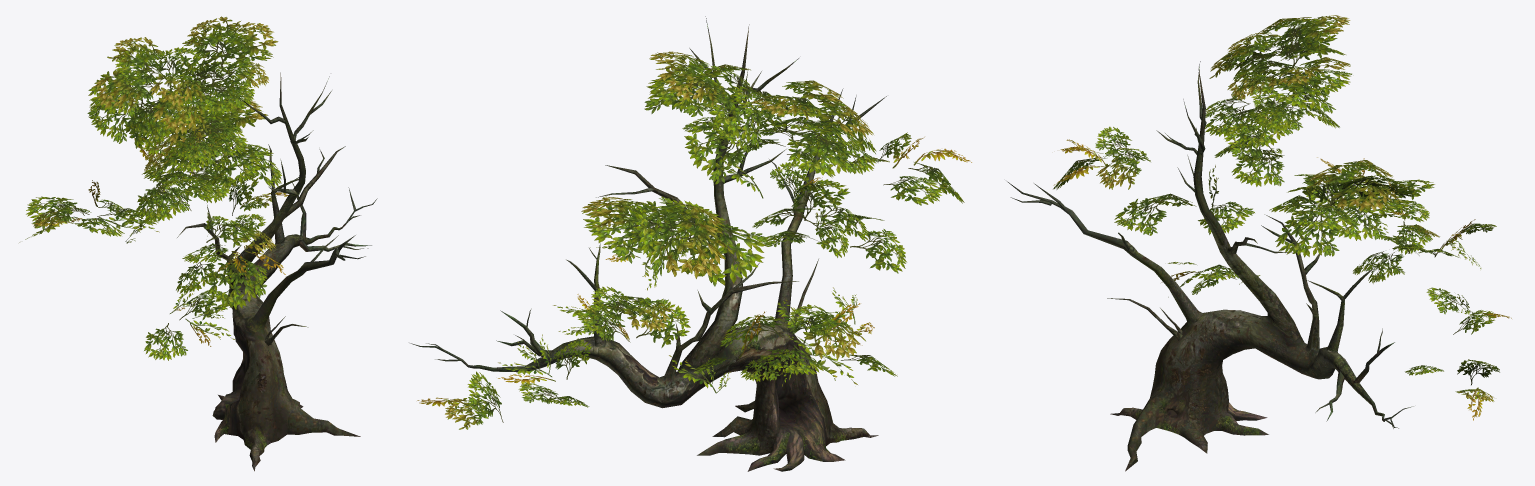
File: Tree_1.FBX
The picture shows the model from 3 angles, left to right: view 1: azimuth 30°, elevation 25°; view 2: azimuth 150°, elevation 25°; view 3: azimuth 270°, elevation 25°; orthographic projection. The views are drawn at different scales.
Visible parts, largest first — view 1: C5_tree_3, C5_tree_4; view 2: C5_tree_3, C5_tree_4; view 3: C5_tree_3, C5_tree_4.
Part boxes in pixels (bbox=[...]): C5_tree_3: bbox=[19, 16, 288, 360]; C5_tree_4: bbox=[177, 72, 377, 471]; C5_tree_3: bbox=[417, 51, 971, 429]; C5_tree_4: bbox=[410, 16, 886, 471]; C5_tree_3: bbox=[1053, 15, 1511, 420]; C5_tree_4: bbox=[1007, 61, 1413, 471].
Bounding box in the file's own units: 1510 × 1406 × 1698.
